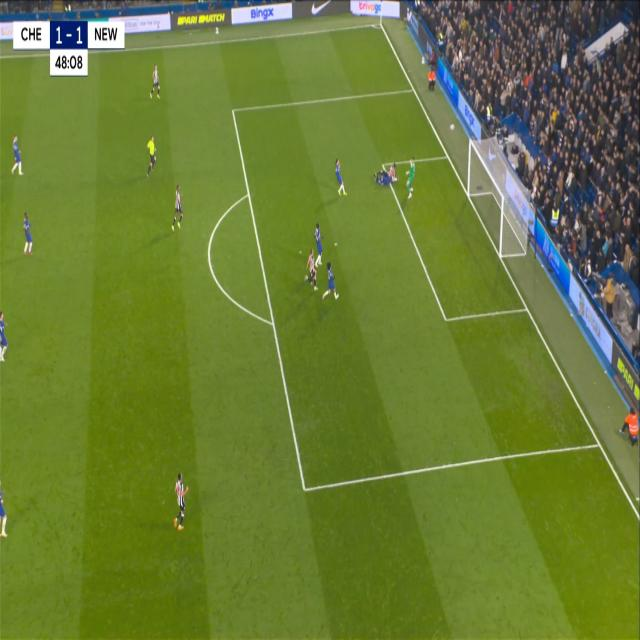Ball: (448, 118, 456, 138)
Chelsea: (320, 257, 341, 305), (331, 153, 349, 200), (21, 205, 36, 258), (9, 130, 25, 179), (311, 218, 325, 269)
Chelsea keeper: (404, 154, 419, 207)
New castle: (170, 468, 191, 536), (168, 180, 188, 236), (148, 58, 162, 106), (305, 250, 318, 294), (174, 478, 186, 513)
Refree: (143, 130, 159, 183)
